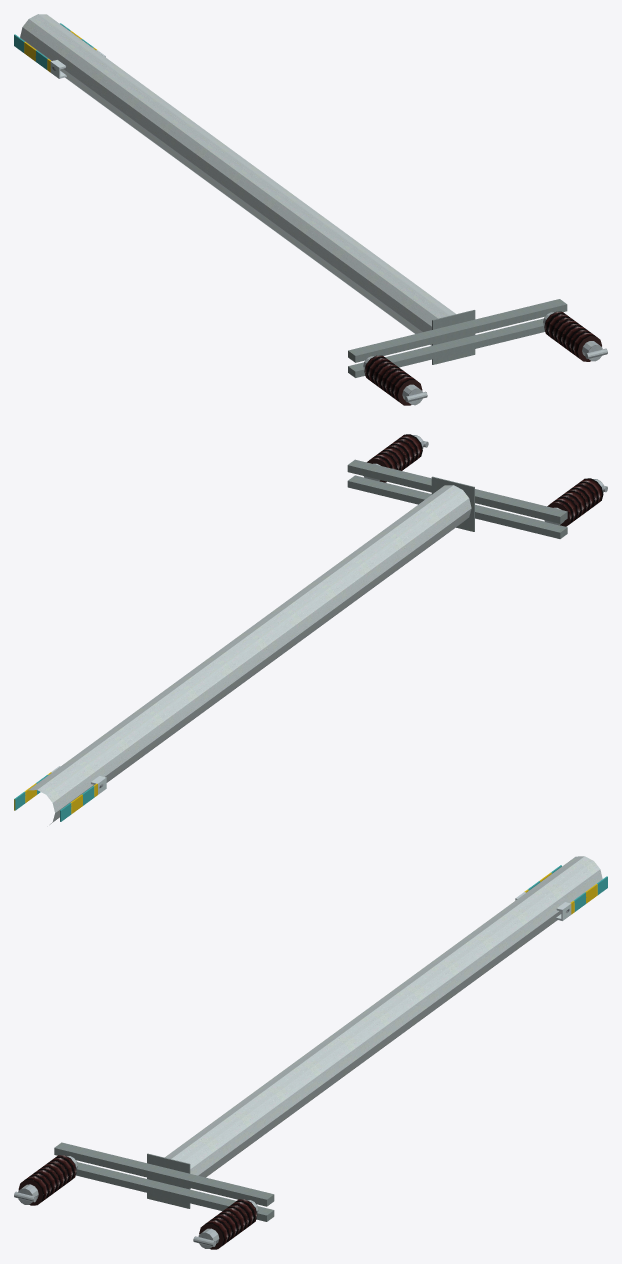
Rendered from ftzbzsb-zzjyz-0127-geode.glb.
3 views of the same model, one above another, from view 1: azimuth 30°, elevation 25°; view 2: azimuth 150°, elevation 25°; view 3: azimuth 330°, elevation 25° (orthographic).
Parts seen in each view (by area): view 1: Node; view 2: Node; view 3: Node.
Boxes of the visible parts, left/top/right/bottom form: Node: left=14, top=14, right=607, bottom=405; Node: left=14, top=434, right=607, bottom=824; Node: left=14, top=856, right=607, bottom=1249.
Bounding box in the file's own units: 1.77 × 0.3549 × 6.8.
7 materials, 7 textured.
